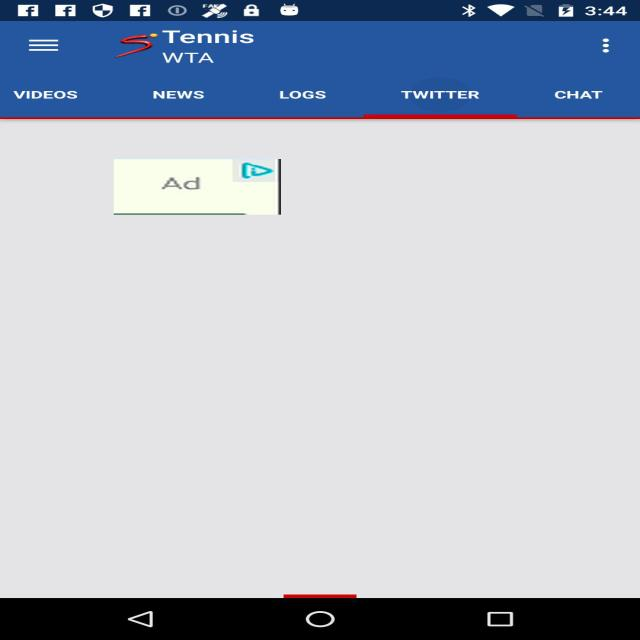sneaking: (114, 159, 281, 215)
